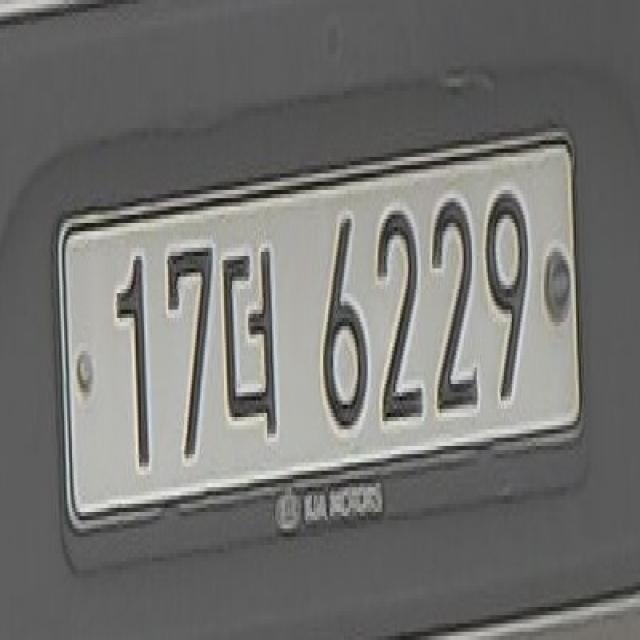1: (109, 239, 157, 492)
2: (373, 178, 429, 434), (430, 178, 480, 425)
6: (317, 186, 374, 446)
7: (163, 223, 221, 471)
9: (482, 165, 532, 417)
deo: (221, 223, 288, 450)
license_plate: (51, 111, 597, 586)
